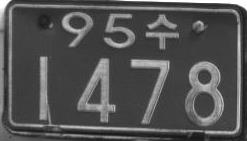1: (27, 55, 63, 121)
4: (77, 57, 115, 123)
5: (102, 13, 135, 49)
7: (129, 57, 171, 126)
8: (183, 59, 225, 127)
9: (61, 11, 93, 48)
수: (146, 13, 178, 51)
